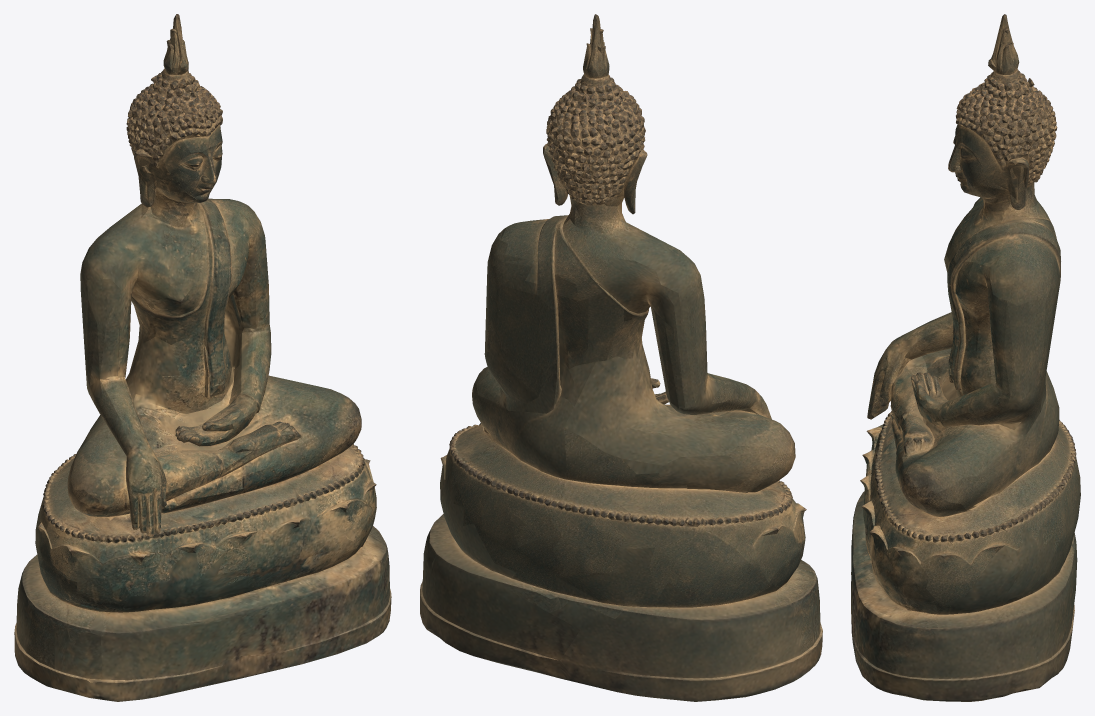
The model's file is remeshed-buddhaA.glb.
3 views of the same model, side by side, from view 1: azimuth 30°, elevation 25°; view 2: azimuth 150°, elevation 25°; view 3: azimuth 270°, elevation 25° (orthographic). The views are drawn at different scales.
Parts seen in each view (by area): view 1: output_unwrapped; view 2: output_unwrapped; view 3: output_unwrapped.
Part boxes in pixels (<box>): output_unwrapped: <box>14,14,391,701</box>; output_unwrapped: <box>420,14,822,701</box>; output_unwrapped: <box>851,14,1080,701</box>.
Size of the model in its own units: 1.15 by 1.9 by 0.6542.
1 material, 1 textured.
